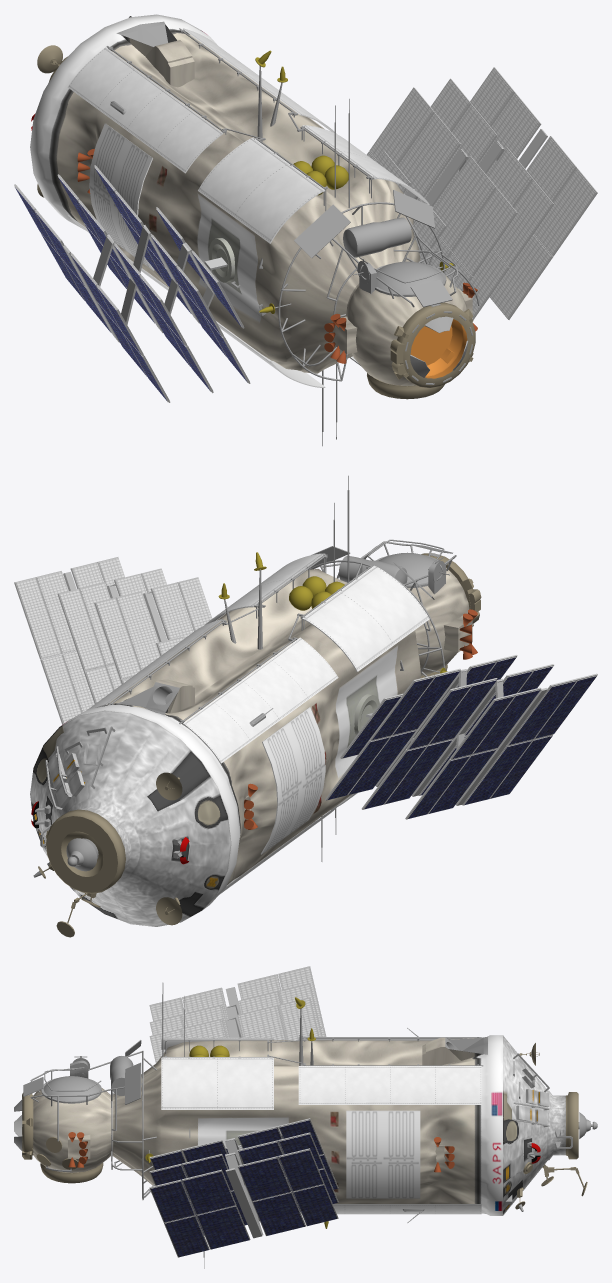
Rendered from FGB.FBX.
3 renders of one model, top to bottom at view 1: azimuth 30°, elevation 25°; view 2: azimuth 150°, elevation 25°; view 3: azimuth 270°, elevation 25°, orthographic. The views are drawn at different scales.
Visible parts, largest first — view 1: body; view 2: body; view 3: body.
Boxes of the visible parts, x1,y1,x2,y2 form: body: (14,14,597,446); body: (14,475,597,937); body: (14,966,597,1268).
Size of the model in its own units: 9.77 by 7.12 by 13.17.
Materials: 16 (6 with a texture image).
